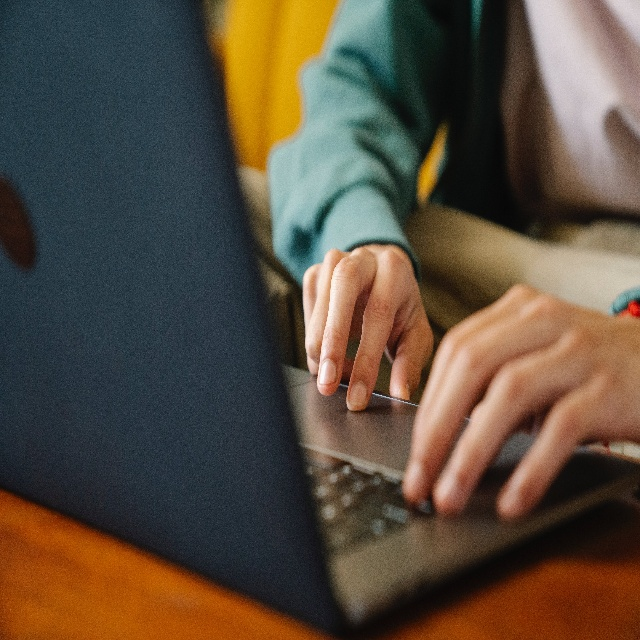Sin_guantes: (397, 273, 640, 529), (297, 247, 439, 403)
